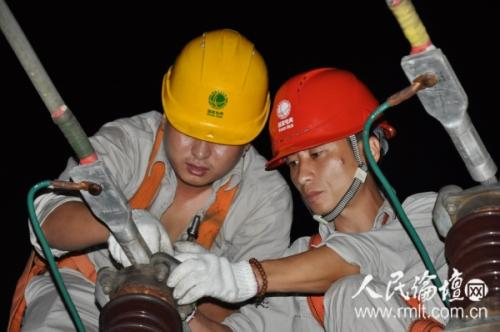gloves: (164, 239, 259, 306), (107, 207, 174, 268)
hard-hat: (264, 67, 393, 171), (161, 27, 271, 145)
person: (7, 28, 303, 332), (165, 66, 500, 332)
vest: (11, 109, 297, 332), (315, 188, 500, 332)
